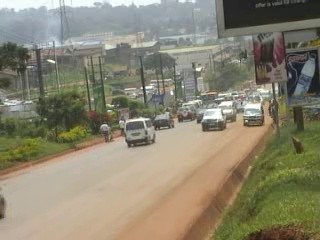Car: (217, 99, 238, 124), (151, 112, 176, 132), (174, 106, 196, 124), (0, 183, 9, 221), (234, 97, 252, 114), (196, 106, 208, 123)
